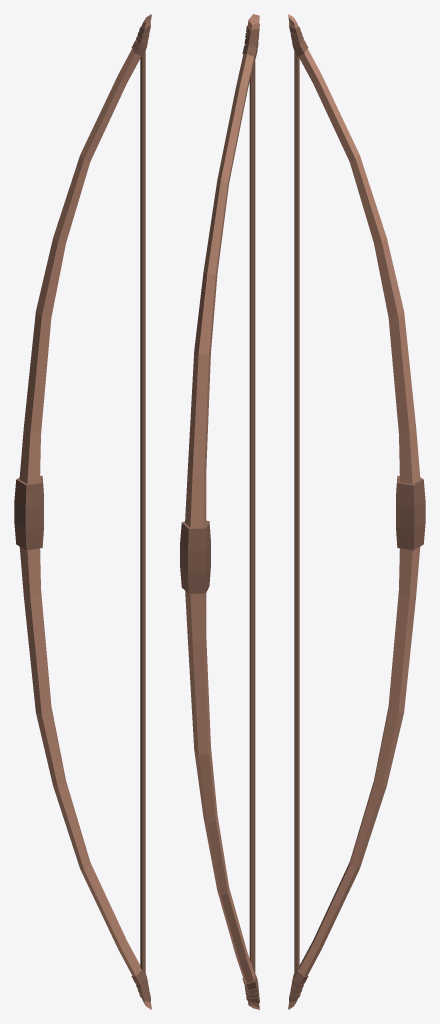
The model's file is wpn-bow.glb.
3 views of the same model, side by side, from view 1: azimuth 90°, elevation 25°; view 2: azimuth 150°, elevation 25°; view 3: azimuth 270°, elevation 25° (orthographic).
Parts seen in each view (by area): view 1: Long Bow; view 2: Long Bow; view 3: Long Bow.
Boxes of the visible parts, x1=… form: Long Bow: x1=14, y1=14, x2=151, y2=1009; Long Bow: x1=180, y1=14, x2=259, y2=1009; Long Bow: x1=288, y1=14, x2=425, y2=1009.
Size of the model in its own units: 3.14 by 110 by 13.78.
